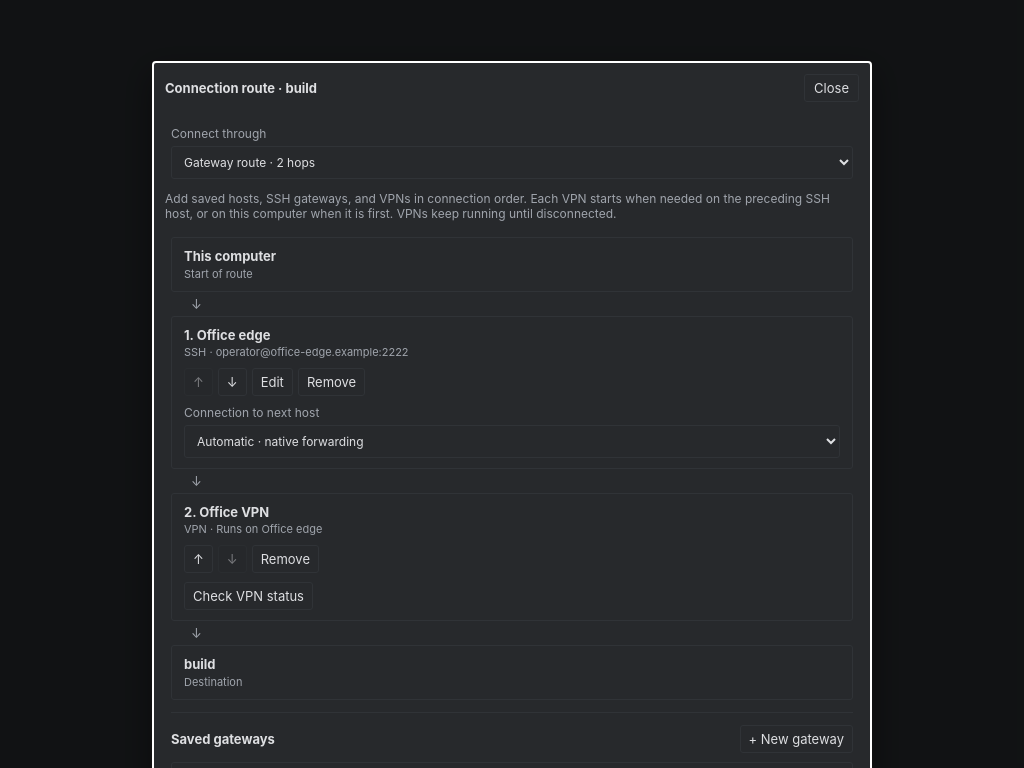
Test: GatewayRouteDialog › shows healthy selected VPN evidence alongside incomplete inventory warnings
The width and height of the screenshot is (1024, 768).
Click the button "Check VPN status".
click(248, 596)  # box [184, 582, 313, 610]
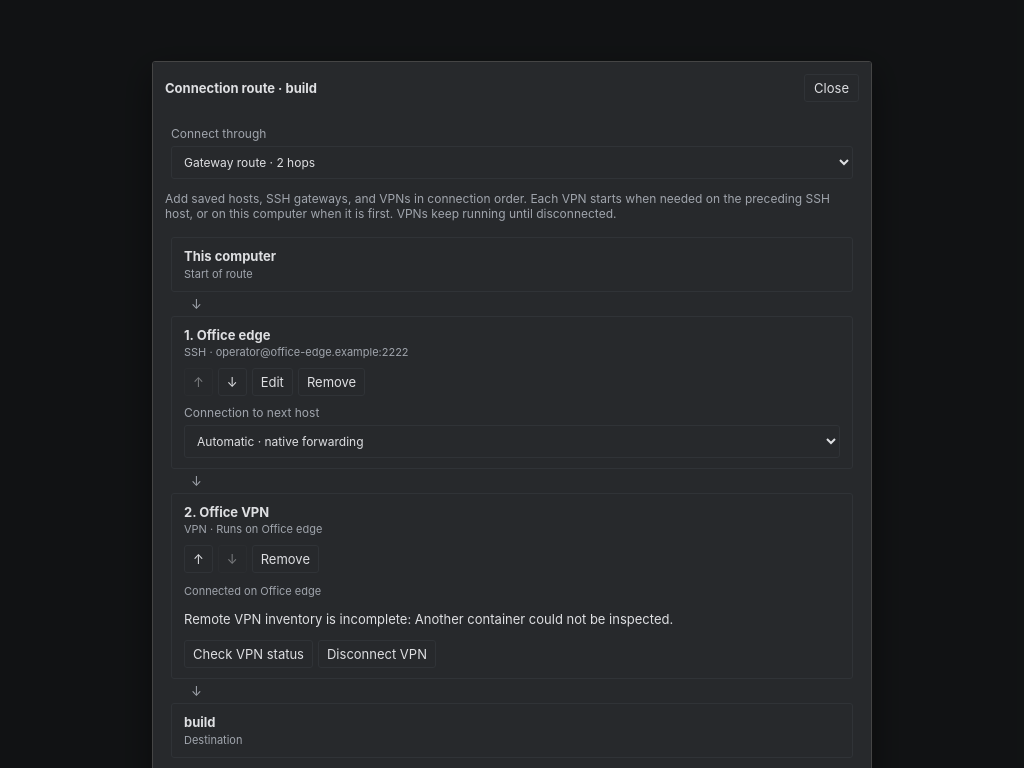
Expected: the text "Connected on Office edge" is shown, [184, 584, 321, 598]
Expected: the message shows "Another container could not be inspected", [415, 611, 673, 627]
Expected: the button "Disconnect VPN" is enabled, [318, 640, 436, 668]
